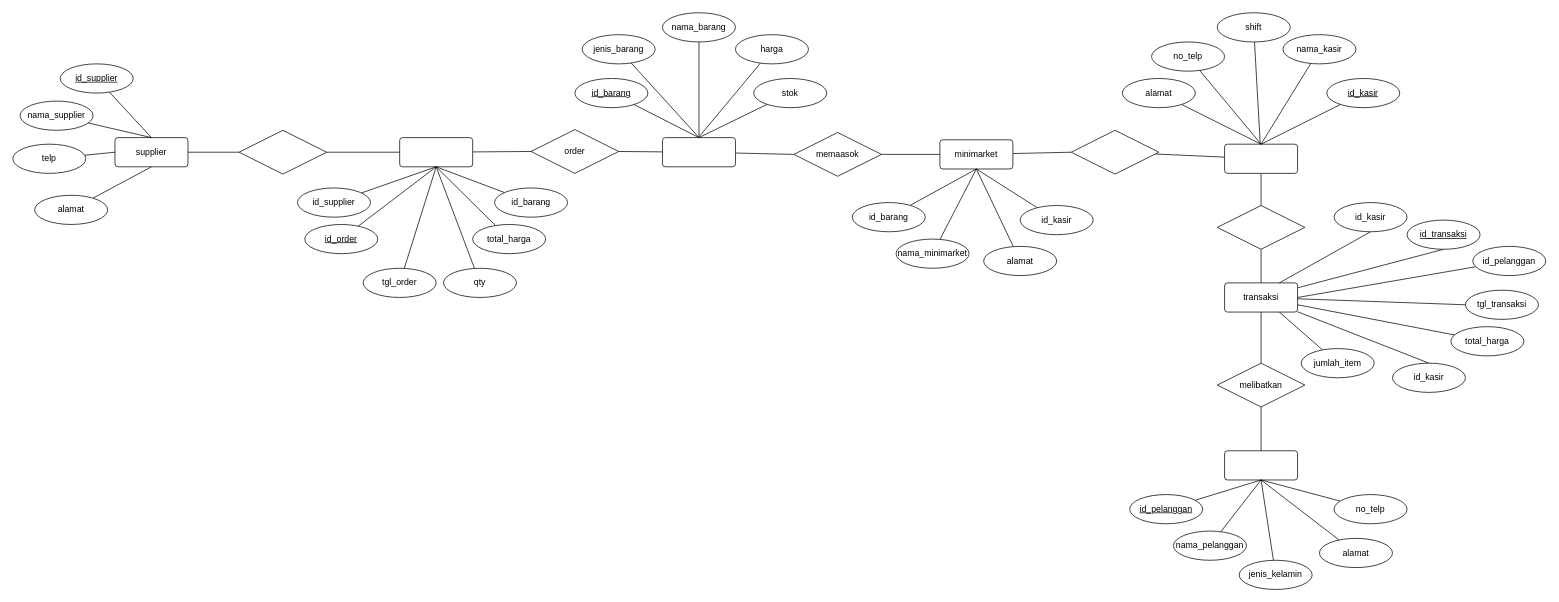
Image size: 1559x602. Some labels were removed from this diagram. Here are the shapes that lost their labels. From the top down, the box of each, then its label:
(238, 130, 327, 174): menyuplai
(399, 137, 473, 167): orderan
(662, 137, 735, 167): barang
(1071, 130, 1159, 174): memperkejakan
(1224, 143, 1298, 173): kasir
(1217, 205, 1305, 249): mencatat
(1224, 450, 1298, 480): pelanggan
